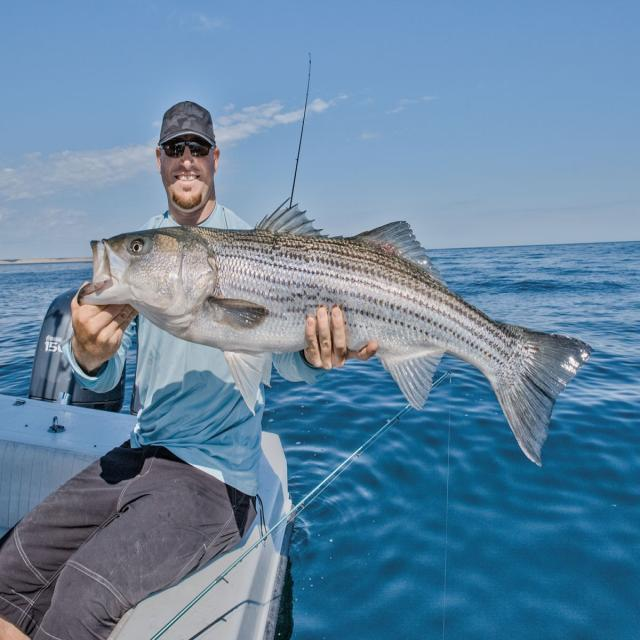Bass - Striped: (78, 206, 591, 464)
